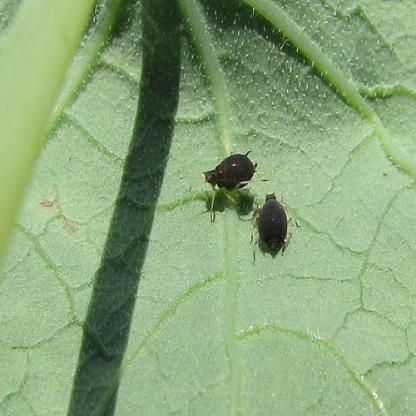aphid: (201, 140, 262, 208), (250, 188, 299, 257)
